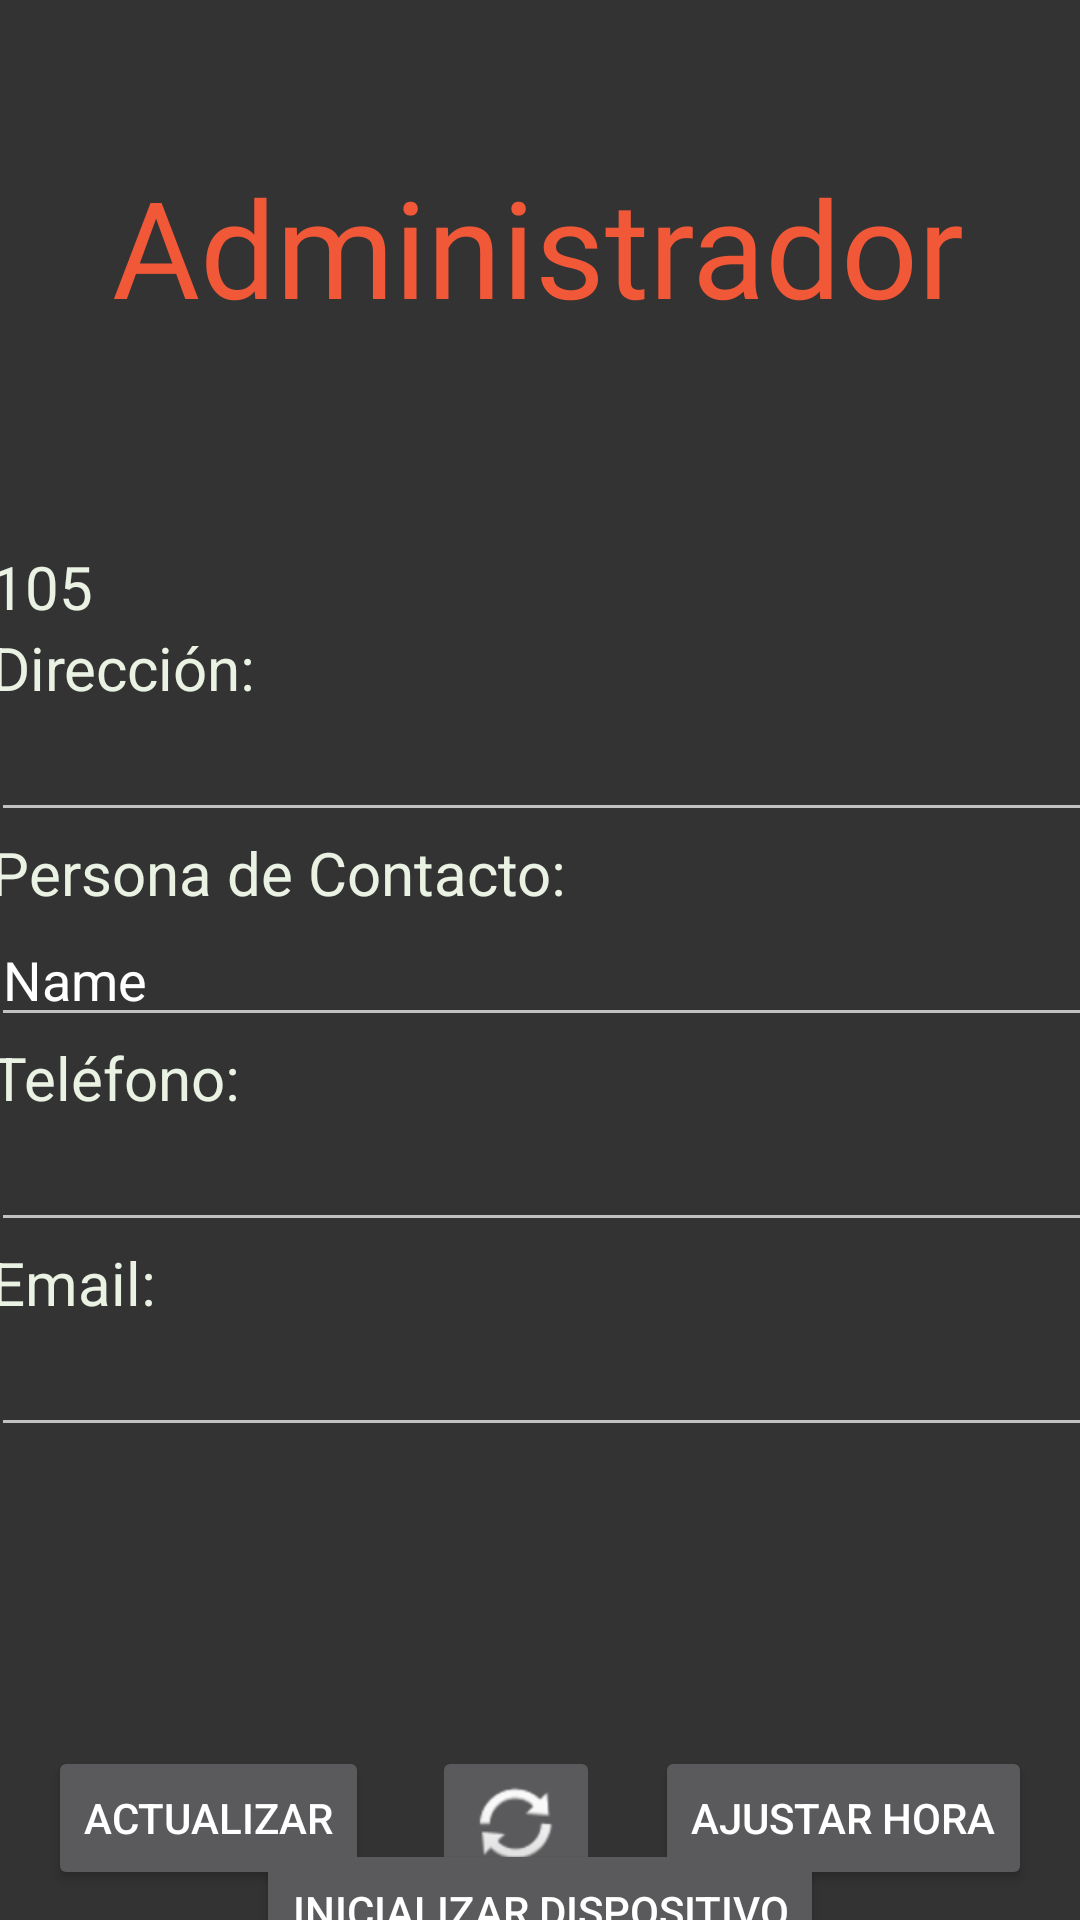

Screen size 1080px x 1920px. Icon name, then its center in pixels as (x,y):
popup sync: (516,1824)
